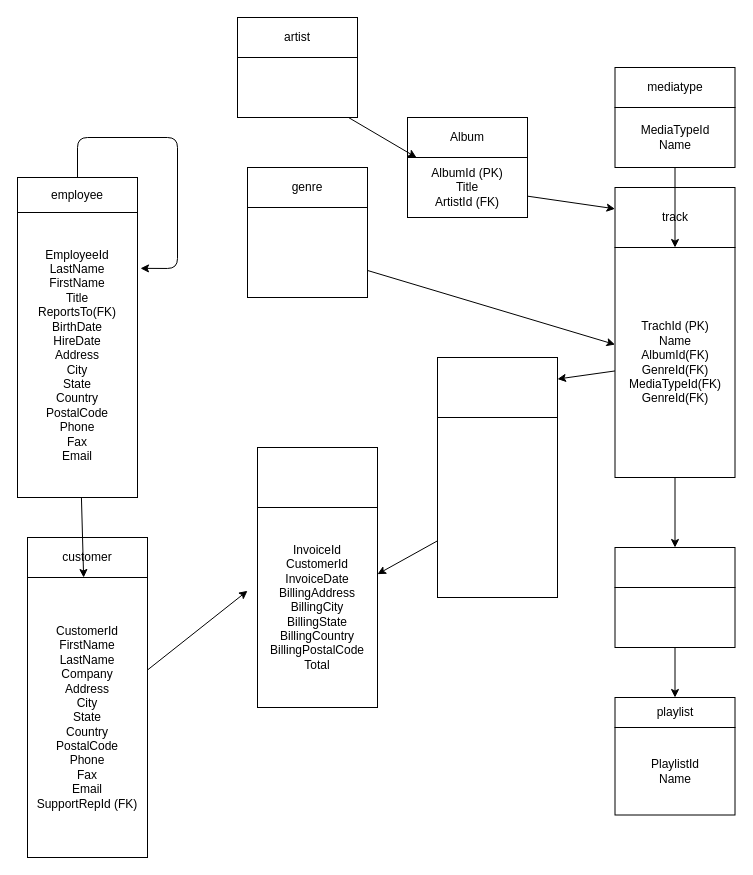
Some shapes in this 753 by 875 pixel diagram are drawn without their labels. Each missing label, with the centre of its shape:
ArtistId (PK) Name: [297,87]
GenreId Name: [307,252]
innvoiceline: [497,387]
invoice: [317,477]
InvoiceLineId InvoiceId(FK) TrackId(FK) UnitPrice Quantity: [497,507]
PlaylistId (PK) TrackId (PK): [674,617]
playlisttrack: [674,567]
